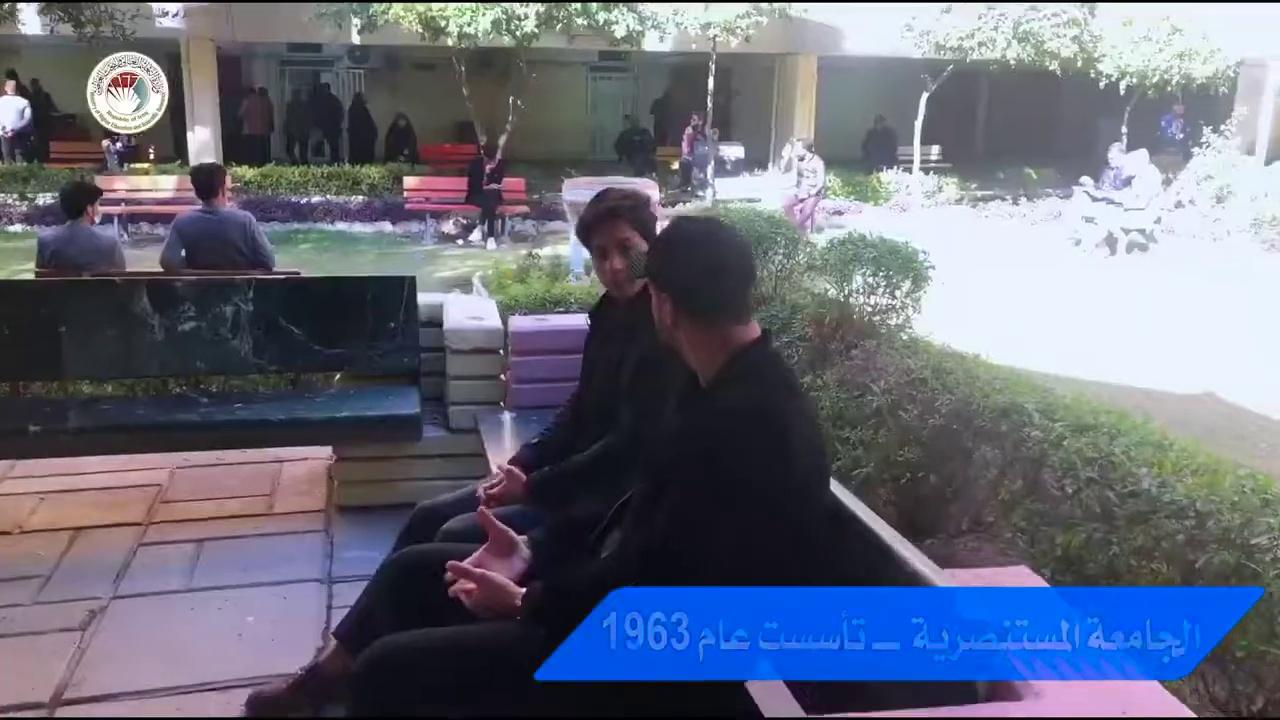fountain: (559, 173, 661, 284), (893, 61, 956, 177)
person: (356, 209, 860, 704), (243, 187, 676, 717), (158, 161, 275, 272), (34, 179, 126, 272), (464, 139, 507, 250), (782, 138, 825, 234), (236, 85, 274, 167), (309, 81, 344, 165), (0, 78, 33, 164), (346, 91, 378, 164), (860, 113, 898, 174), (1156, 99, 1193, 160), (283, 87, 311, 165), (676, 112, 702, 192), (383, 111, 418, 165), (1097, 141, 1134, 191), (100, 129, 122, 172)
tree: (307, 1, 806, 169), (901, 2, 1239, 160), (1090, 14, 1238, 153), (663, 1, 806, 141), (0, 0, 154, 47)
